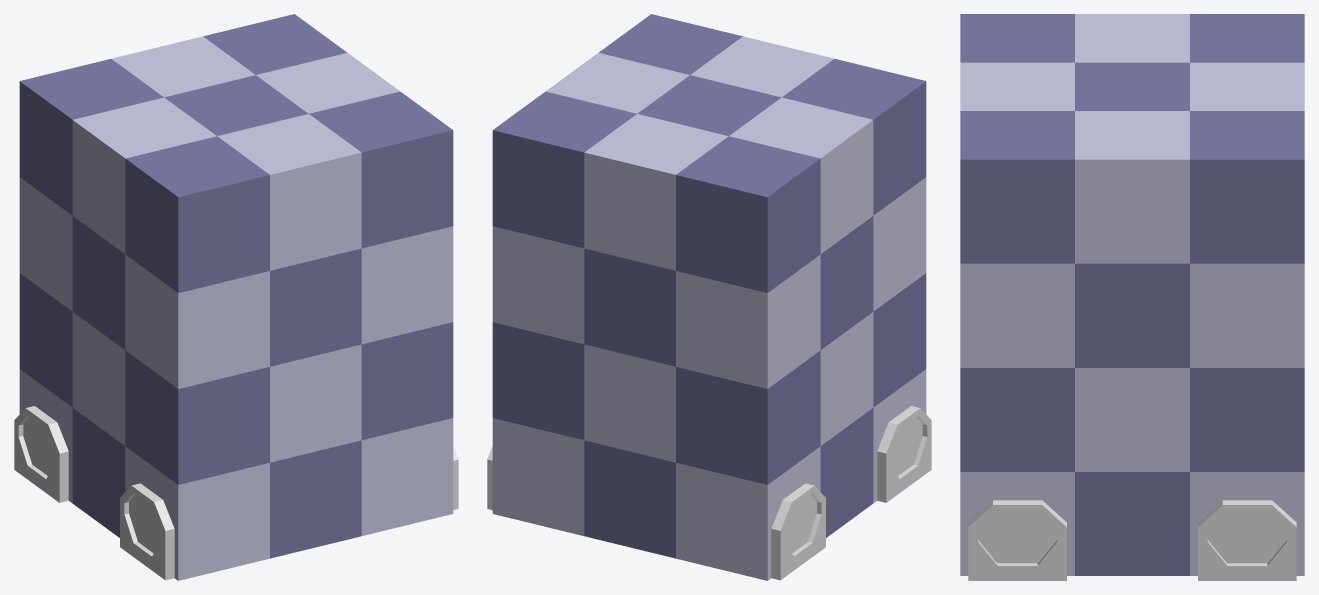
The model's file is loosesmall.fbx.
The picture shows the model from 3 angles, left to right: view 1: azimuth 30°, elevation 25°; view 2: azimuth 150°, elevation 25°; view 3: azimuth 270°, elevation 25°; orthographic projection. The views are drawn at different scales.
Parts seen in each view (by area): view 1: SmallStorage_StorageLooseSmall; view 2: SmallStorage_StorageLooseSmall; view 3: SmallStorage_StorageLooseSmall.
Part boxes in pixels (x1,y1,x2,y2): SmallStorage_StorageLooseSmall: (14, 14, 458, 580); SmallStorage_StorageLooseSmall: (487, 14, 931, 580); SmallStorage_StorageLooseSmall: (960, 14, 1304, 580).
Bounding box in the file's own units: 640 × 800 × 600.
